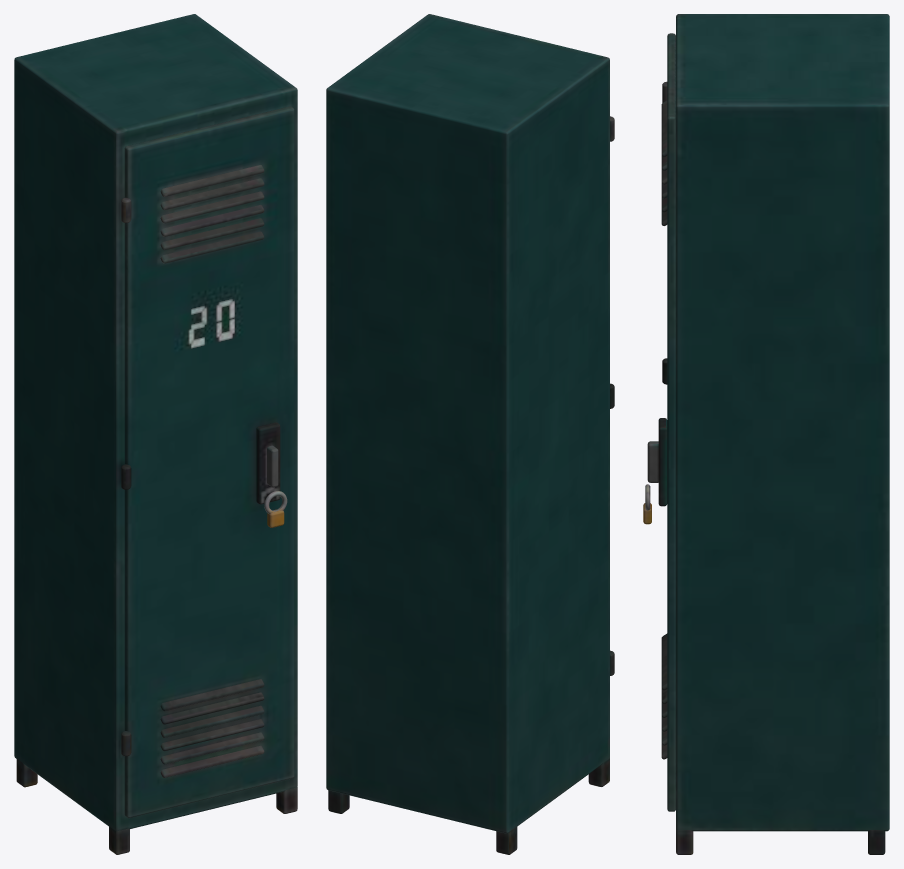
The model's file is locker.glb.
3 views of the same model, side by side, from view 1: azimuth 30°, elevation 25°; view 2: azimuth 150°, elevation 25°; view 3: azimuth 270°, elevation 25° (orthographic). The views are drawn at different scales.
Visible parts, largest first — view 1: locker; view 2: locker; view 3: locker.
Part boxes in pixels (left/top/right/bottom): locker: left=14, top=14, right=297, bottom=854; locker: left=326, top=14, right=614, bottom=854; locker: left=643, top=14, right=889, bottom=854.
Size of the model in its own units: 0.5 by 1.9 by 0.565.
Materials: 1 (1 with a texture image).
